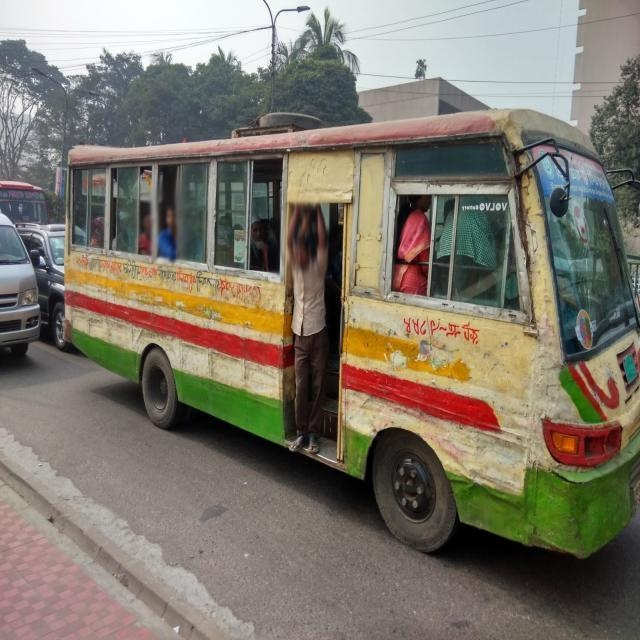bus: (19, 94, 640, 582)
